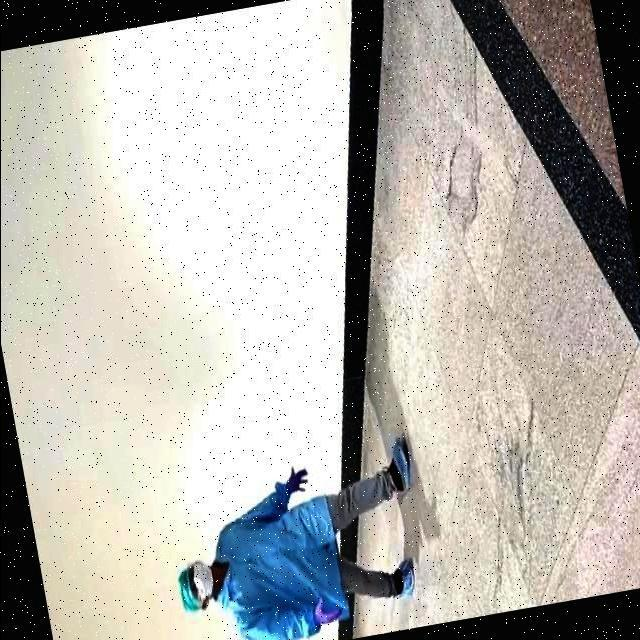apron: (313, 587, 337, 637), (280, 472, 306, 506)
gloves: (178, 567, 194, 613)
mask: (189, 562, 213, 592)
